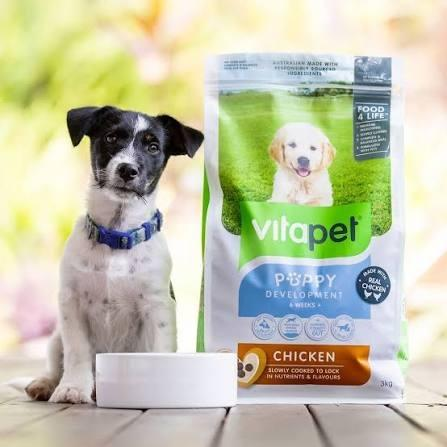non-dog: (263, 120, 338, 208)
puppy-dog: (26, 102, 206, 405)
